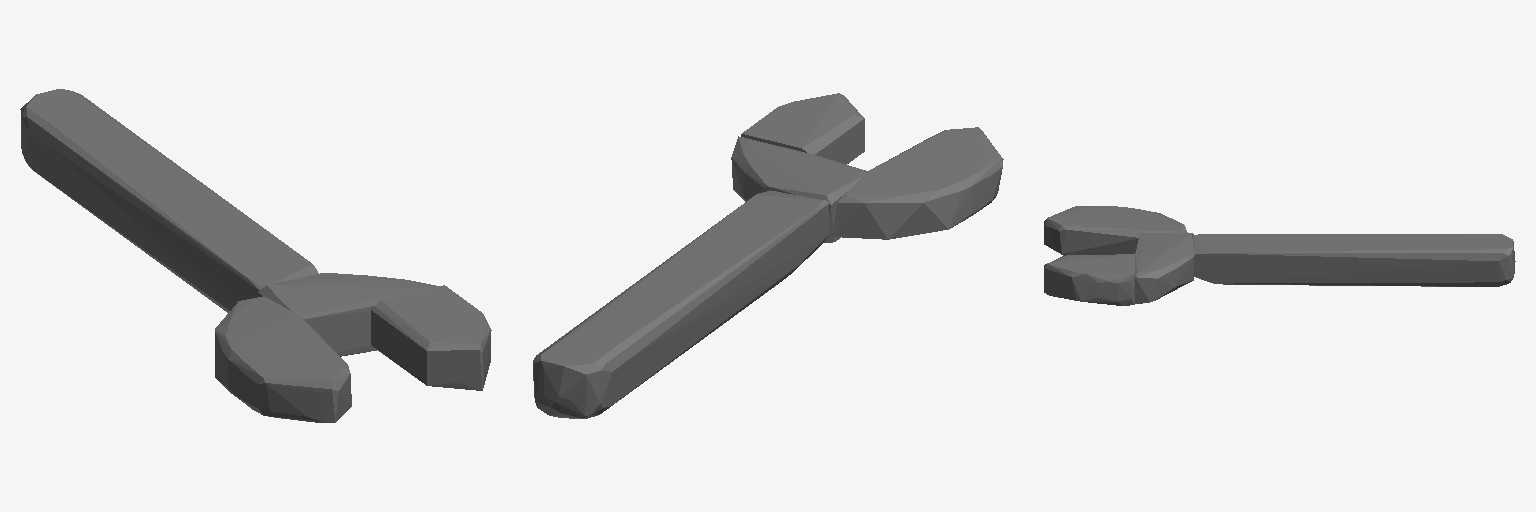
robot.urdf — wrench_019:
<?xml version="1.0" ?>
<robot name="wrench_019">
  <material name="color">
    <color rgba=".5 .5 .5 1"/>
  </material>

  <link name="base_link">
    <contact>
      <lateral_friction value="1.0"/>
      <rolling_friction value="0.001"/>
      <spinning_friction value="0.001"/>
      <inertia_scaling value="1.0"/>
    </contact>
    <inertial>
      <origin rpy="0 0 0" xyz="0.00138565 -0.0171076 -0.00107339"/>
       <mass value="0.1"/>
       <inertia ixx="1" ixy="0" ixz="0" iyy="1" iyz="0" izz="1"/>
    </inertial>

    <visual>
      <origin rpy="0 0 0" xyz="0 0 0"/>
      <geometry>
        <mesh filename="wrench_019_vhacd_0_of_4.obj" scale="1 1 1"/>
      </geometry>
      <material name="color"/>
    </visual>
    <visual>
      <origin rpy="0 0 0" xyz="0 0 0"/>
      <geometry>
        <mesh filename="wrench_019_vhacd_1_of_4.obj" scale="1 1 1"/>
      </geometry>
      <material name="color"/>
    </visual>
    <visual>
      <origin rpy="0 0 0" xyz="0 0 0"/>
      <geometry>
        <mesh filename="wrench_019_vhacd_2_of_4.obj" scale="1 1 1"/>
      </geometry>
      <material name="color"/>
    </visual>
    <visual>
      <origin rpy="0 0 0" xyz="0 0 0"/>
      <geometry>
        <mesh filename="wrench_019_vhacd_3_of_4.obj" scale="1 1 1"/>
      </geometry>
      <material name="color"/>
    </visual>

    <collision>
      <origin rpy="0 0 0" xyz="0 0 0"/>
      <geometry>
        <mesh filename="wrench_019_vhacd_0_of_4.obj" scale="1 1 1"/>
      </geometry>
    </collision>
    <collision>
      <origin rpy="0 0 0" xyz="0 0 0"/>
      <geometry>
        <mesh filename="wrench_019_vhacd_1_of_4.obj" scale="1 1 1"/>
      </geometry>
    </collision>
    <collision>
      <origin rpy="0 0 0" xyz="0 0 0"/>
      <geometry>
        <mesh filename="wrench_019_vhacd_2_of_4.obj" scale="1 1 1"/>
      </geometry>
    </collision>
    <collision>
      <origin rpy="0 0 0" xyz="0 0 0"/>
      <geometry>
        <mesh filename="wrench_019_vhacd_3_of_4.obj" scale="1 1 1"/>
      </geometry>
    </collision>

  </link>
</robot>

--- Facts derived from the render (not from the file) ---
3 views of the same robot in one strip: view 1: azimuth 30°, elevation 25°; view 2: azimuth 150°, elevation 25°; view 3: azimuth 270°, elevation 25° (orthographic).
Model wrench_019 with 1 links and 0 joints (none), rooted at base_link, posed every joint at zero.
Visible links, largest first — view 1: base_link; view 2: base_link; view 3: base_link.
Boxes of the visible links, box(x1,y1,x2,y2) form: base_link: box(20, 89, 491, 422); base_link: box(533, 93, 1003, 418); base_link: box(1044, 206, 1515, 305).
Bounding box of the posed robot: 0.0812 × 0.2193 × 0.0217 m (x, y, z).
4 mesh visuals loaded from 4 distinct referenced files (4 OBJ).